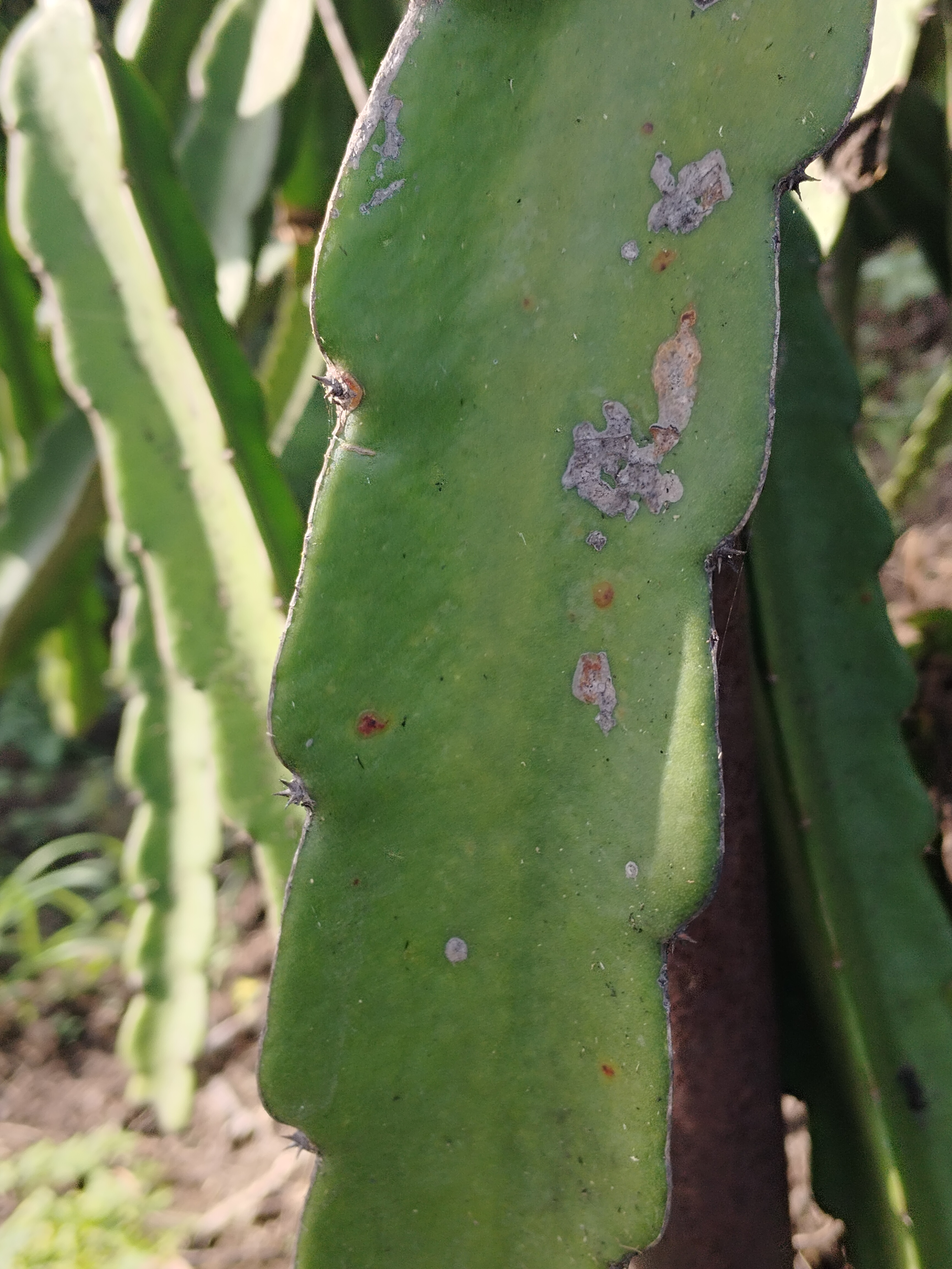stemcanker: (243, 1, 879, 1269)
